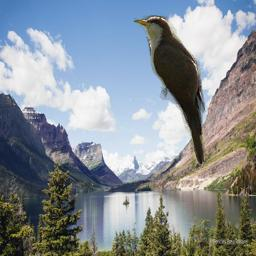Cuckoo: (133, 15, 209, 167)
